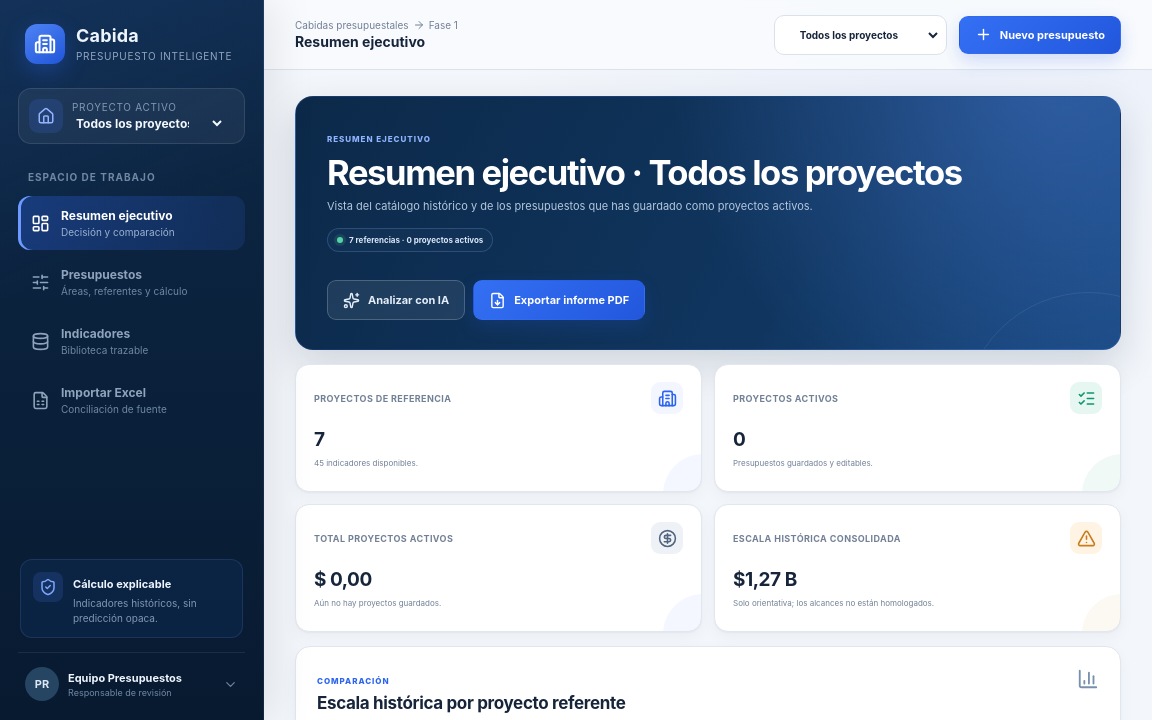
Test: App › permite elegir cualquiera de los siete proyectos y lleva su selección al resumen ejecutivo
The width and height of the screenshot is (1164, 720).
Select "Serraclara" in the dropdown labelled "Proyecto activo" at (148, 123), box [72,114,225,132]
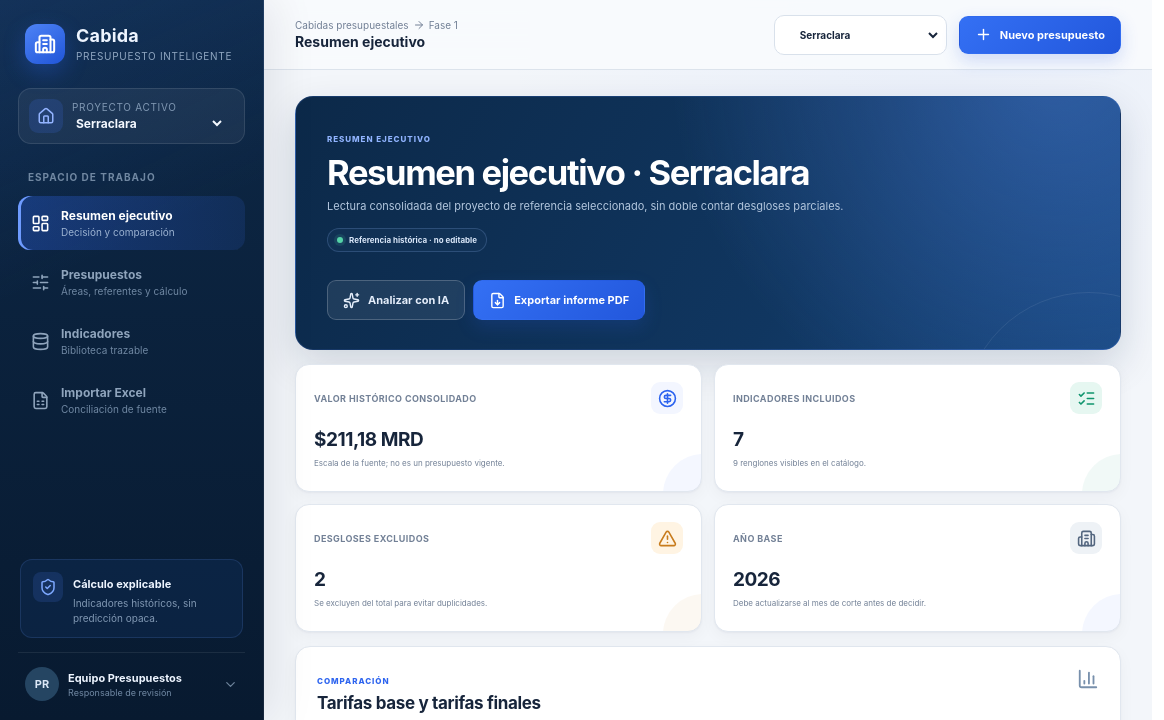
Now the dropdown named "Proyecto activo en la barra superior" shows "Serraclara", box [787,20,941,50]
Now the heading "Resumen ejecutivo · Serraclara" is shown, box [327,154,844,191]
Click the button "Indicadores Biblioteca trazable" at (132, 341), box [18,314,245,368]
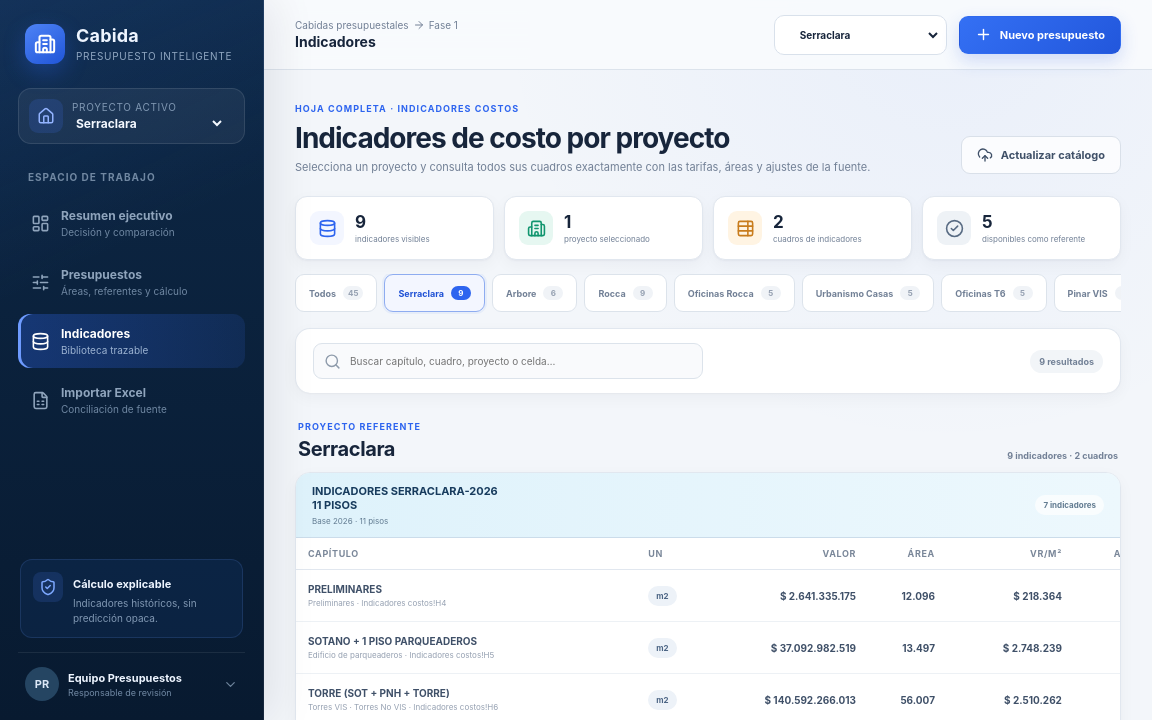
Now the text "9 indicadores · 2 cuadros" is shown, box [1007,450,1118,461]
Now the number of rows with class "catalog-indicator-row" is 9
